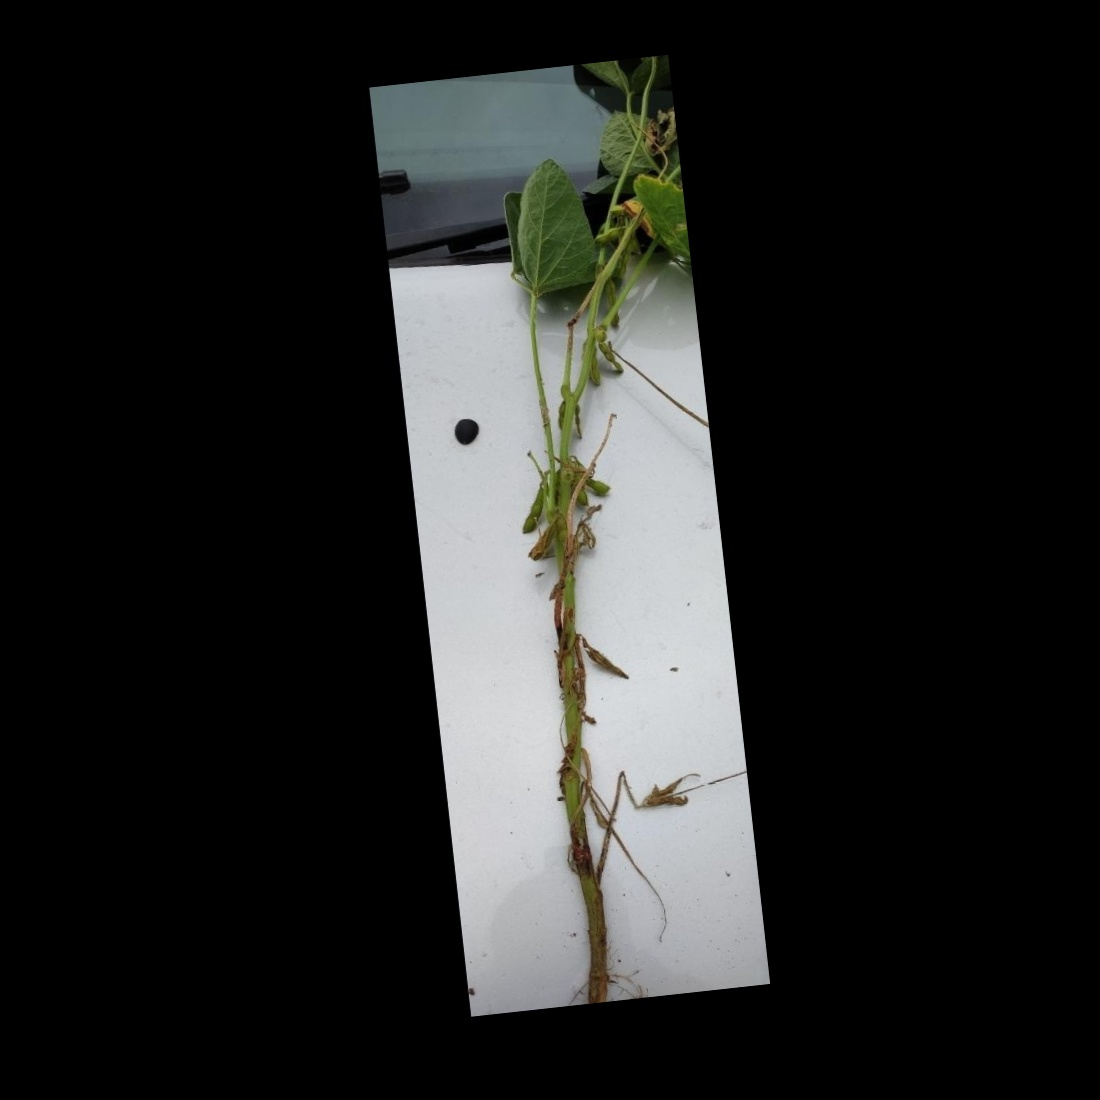pod: (515, 483, 546, 535), (596, 339, 623, 376), (590, 226, 625, 245), (584, 474, 614, 496)
soy: (439, 113, 754, 1002)
